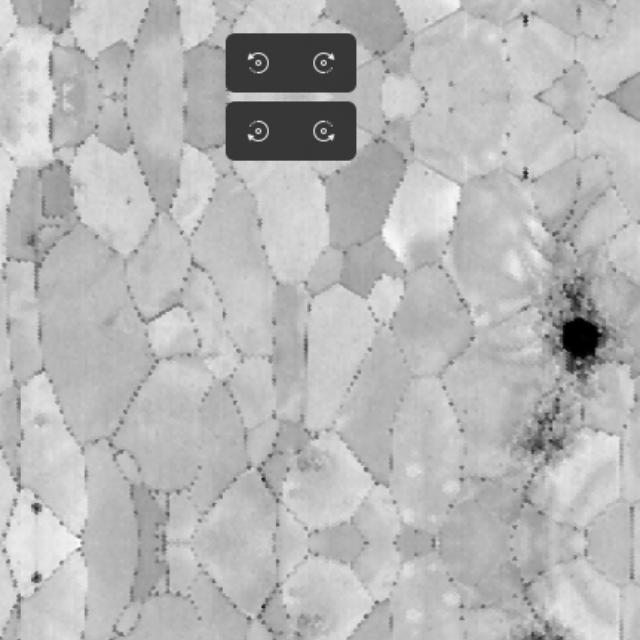good_void: (521, 270, 639, 393), (517, 391, 566, 464), (16, 226, 46, 258), (522, 626, 565, 640), (25, 410, 51, 432), (25, 498, 46, 522), (25, 566, 46, 590), (517, 159, 535, 183), (517, 11, 535, 35), (493, 145, 511, 162), (493, 32, 511, 49), (119, 194, 135, 212), (444, 102, 459, 116), (444, 78, 459, 92), (419, 167, 432, 181), (419, 13, 432, 27)
